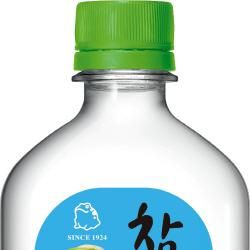soju: (2, 2, 248, 250)
